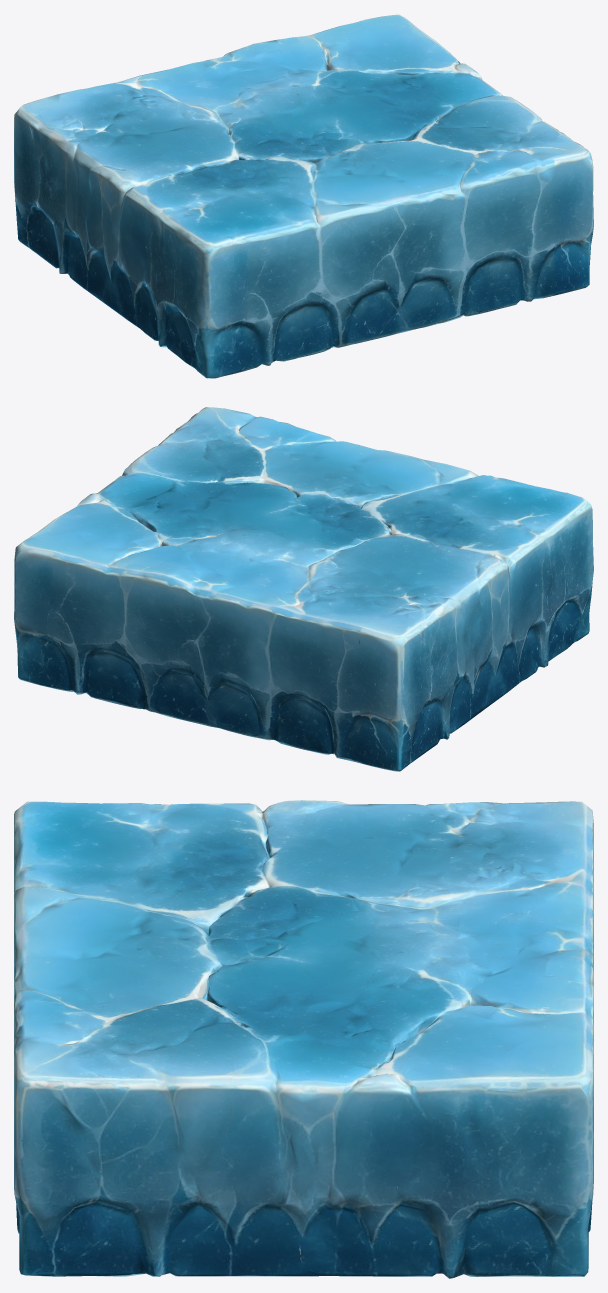
Rendered from floe.glb.
The picture shows the model from 3 angles, top to bottom: view 1: azimuth 30°, elevation 25°; view 2: azimuth 150°, elevation 25°; view 3: azimuth 270°, elevation 25°; orthographic projection. The views are drawn at different scales.
Size of the model in its own units: 1.9 by 0.6556 by 1.63.
Materials: 1 (1 with a texture image).
